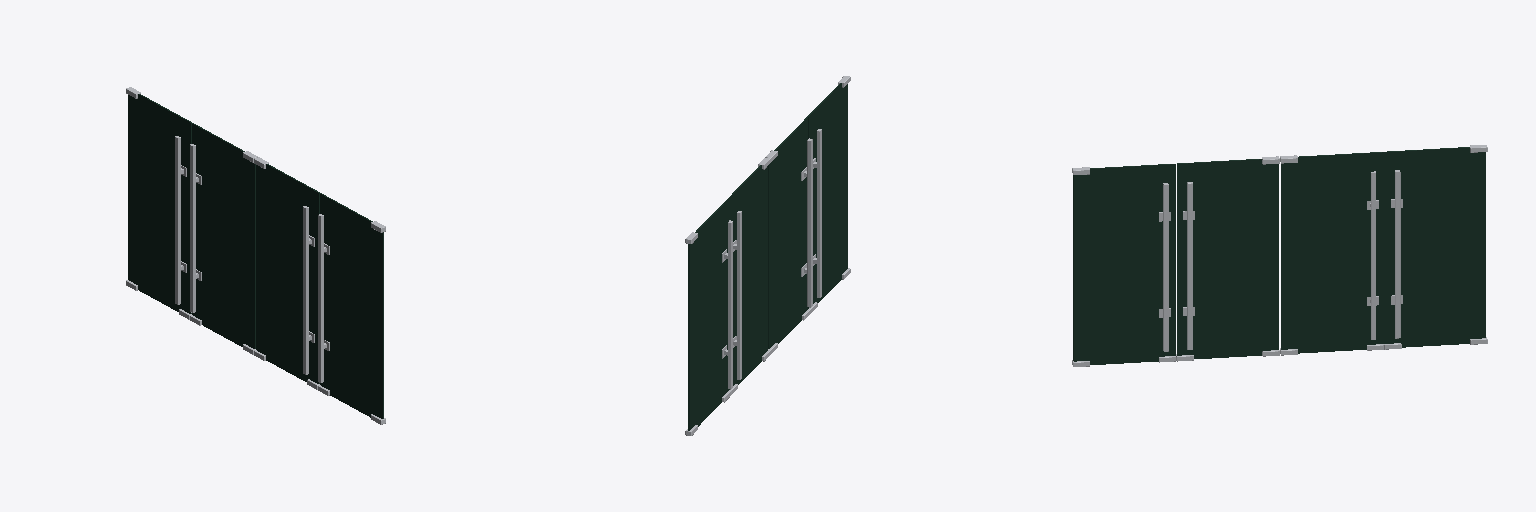
Rendered from puerta.obj.
The picture shows the model from 3 angles: view 1: azimuth 30°, elevation 25°; view 2: azimuth 150°, elevation 25°; view 3: azimuth 270°, elevation 25°; orthographic projection.
Parts seen in each view (by area): view 1: puerta:Object004, puerta:ChamferBox002, puerta:ChamferBox003; view 2: puerta:Object004, puerta:ChamferBox002, puerta:ChamferBox003; view 3: puerta:Object004, puerta:ChamferBox002, puerta:ChamferBox003.
Part boxes in pixels (left/top/right/bottom): puerta:Object004: left=128, top=94, right=383, bottom=418; puerta:ChamferBox002: left=175, top=136, right=329, bottom=382; puerta:ChamferBox003: left=126, top=87, right=385, bottom=424; puerta:Object004: left=688, top=83, right=847, bottom=430; puerta:ChamferBox002: left=722, top=129, right=821, bottom=389; puerta:ChamferBox003: left=685, top=76, right=850, bottom=435; puerta:Object004: left=1073, top=147, right=1485, bottom=364; puerta:ChamferBox002: left=1159, top=170, right=1402, bottom=351; puerta:ChamferBox003: left=1072, top=145, right=1487, bottom=366.
Bounding box in the file's own units: 1.12 × 3.91 × 7.49.